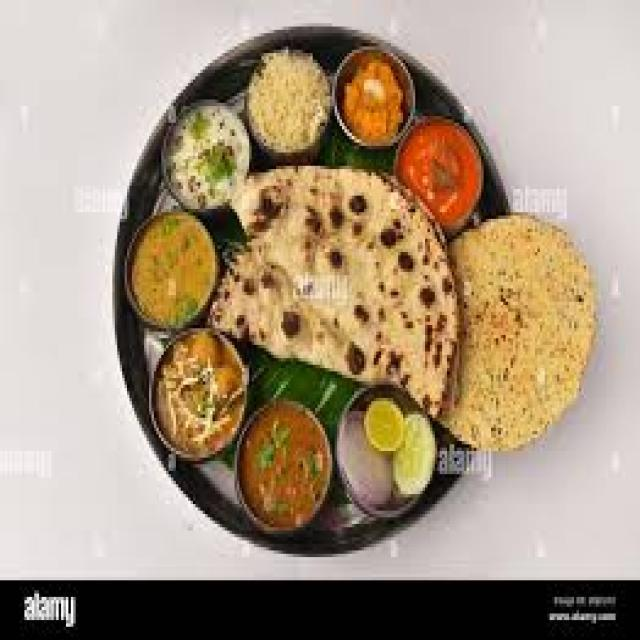dal: (118, 204, 218, 326)
papad: (450, 218, 593, 428)
rice: (153, 97, 254, 210), (243, 46, 336, 160)
roti: (223, 166, 446, 392)
veg-fry: (225, 390, 339, 543), (388, 114, 490, 218), (333, 48, 413, 144)
